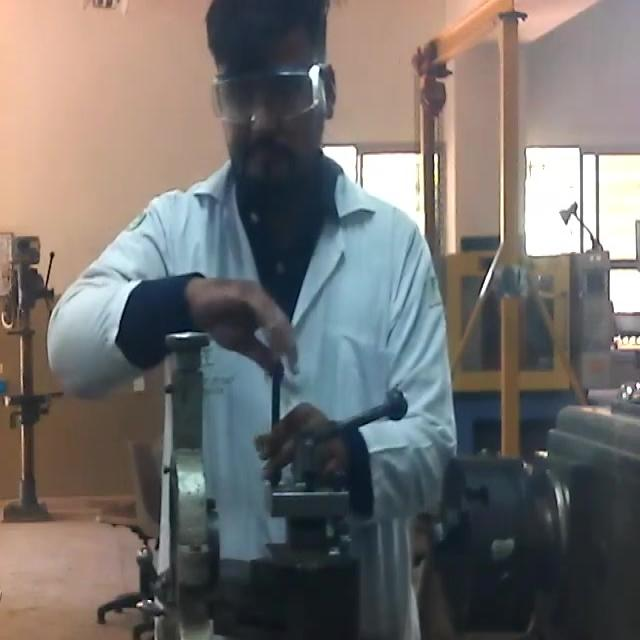googles: (215, 68, 324, 127)
labcoat: (49, 156, 459, 640)
